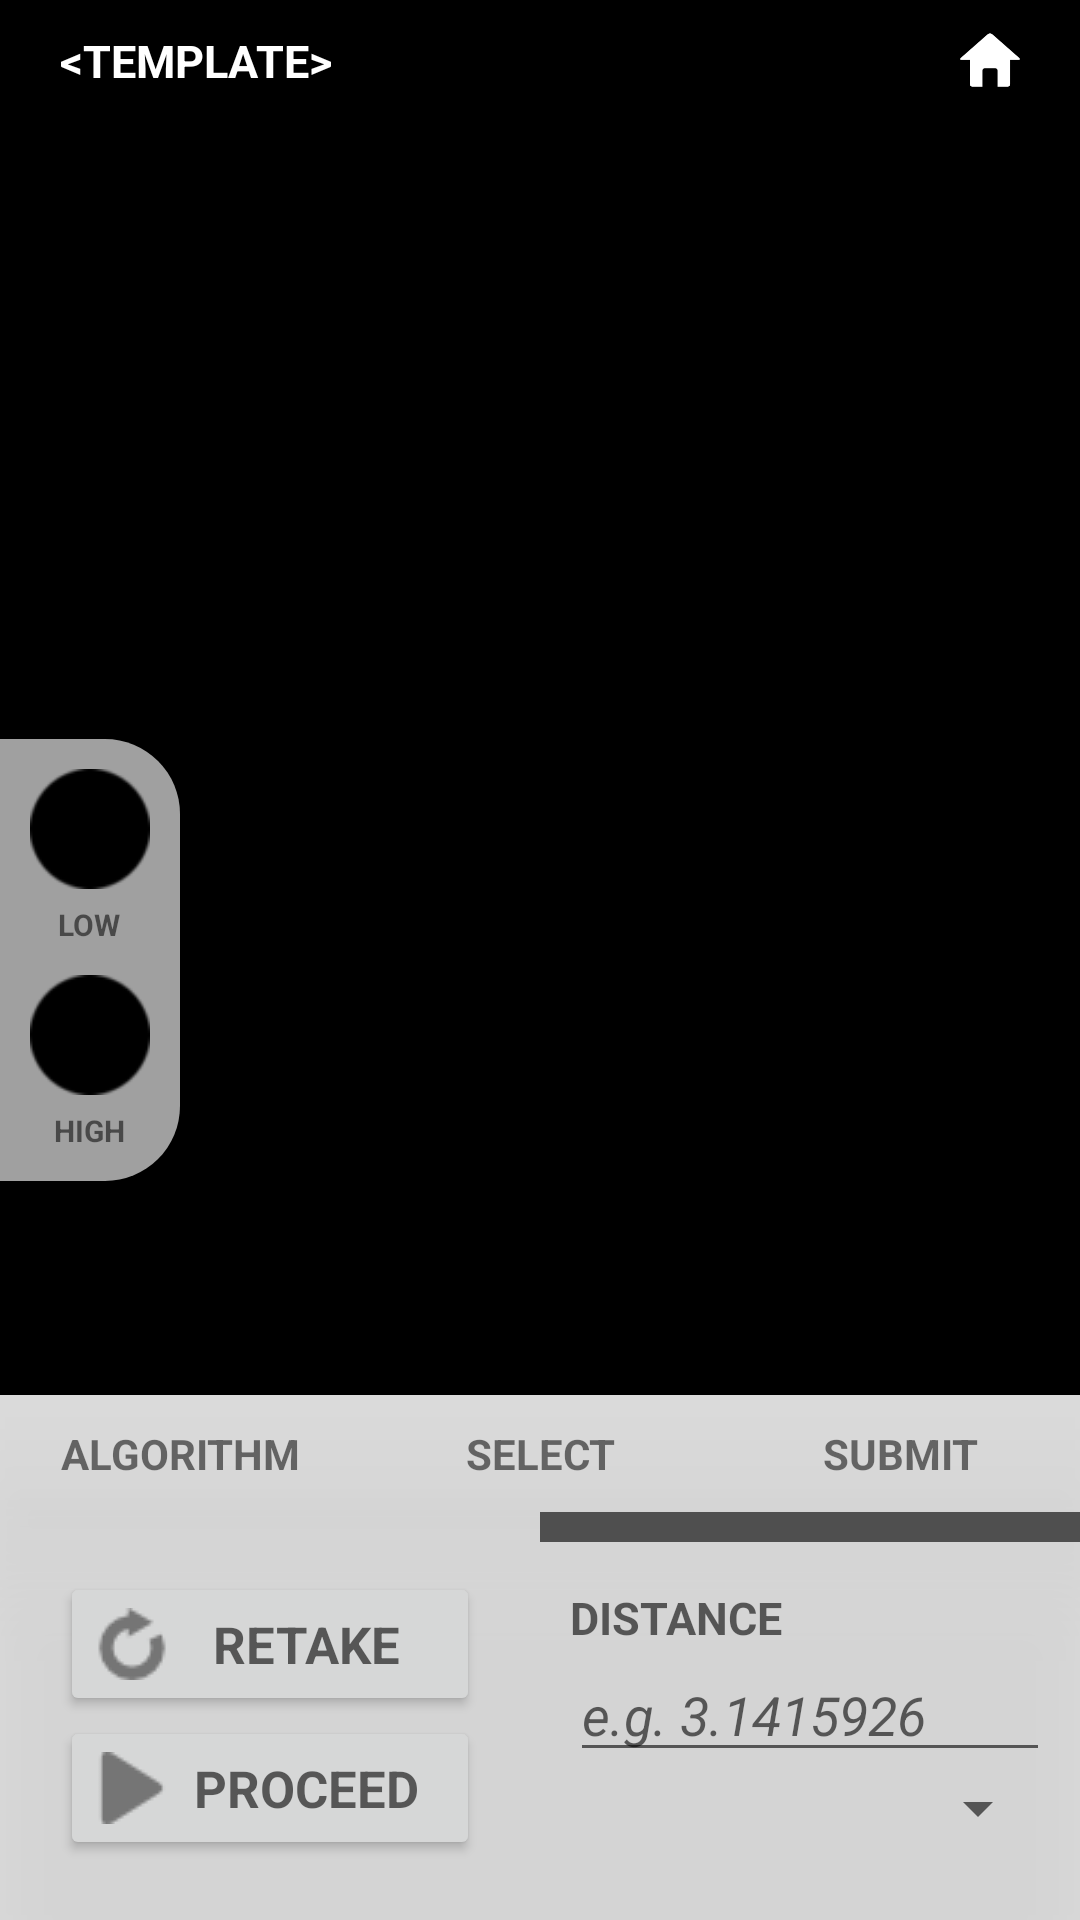

Named icons in this screenshot (1080×1920) and their bounding boxes, Rect(x1, y1, x2, y2):
home: Rect(960, 33, 1020, 87)
